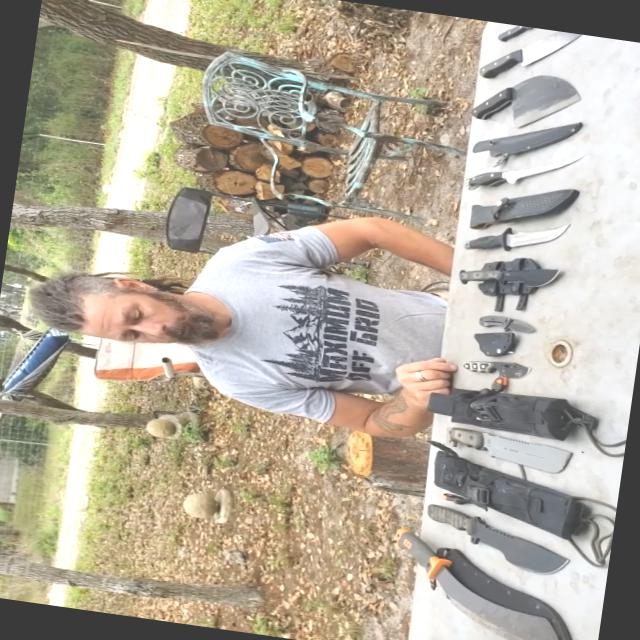knife: (373, 522, 599, 639), (412, 490, 582, 576), (428, 415, 608, 490), (470, 19, 608, 102), (448, 63, 588, 139), (454, 134, 590, 204), (450, 251, 589, 302), (460, 205, 579, 264), (450, 351, 536, 386), (468, 308, 548, 342)
